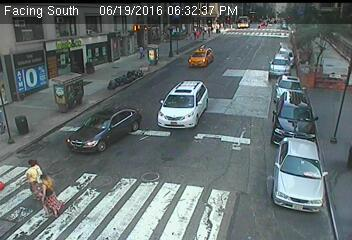neg: (69, 63, 98, 102), (103, 76, 127, 107), (38, 74, 57, 99)
pos: (27, 173, 62, 219), (135, 41, 150, 61)
